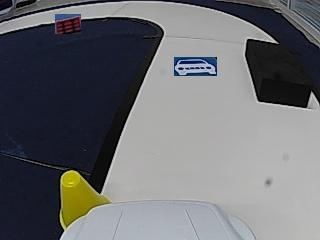block: (244, 40, 315, 106)
cone: (60, 170, 108, 205)
